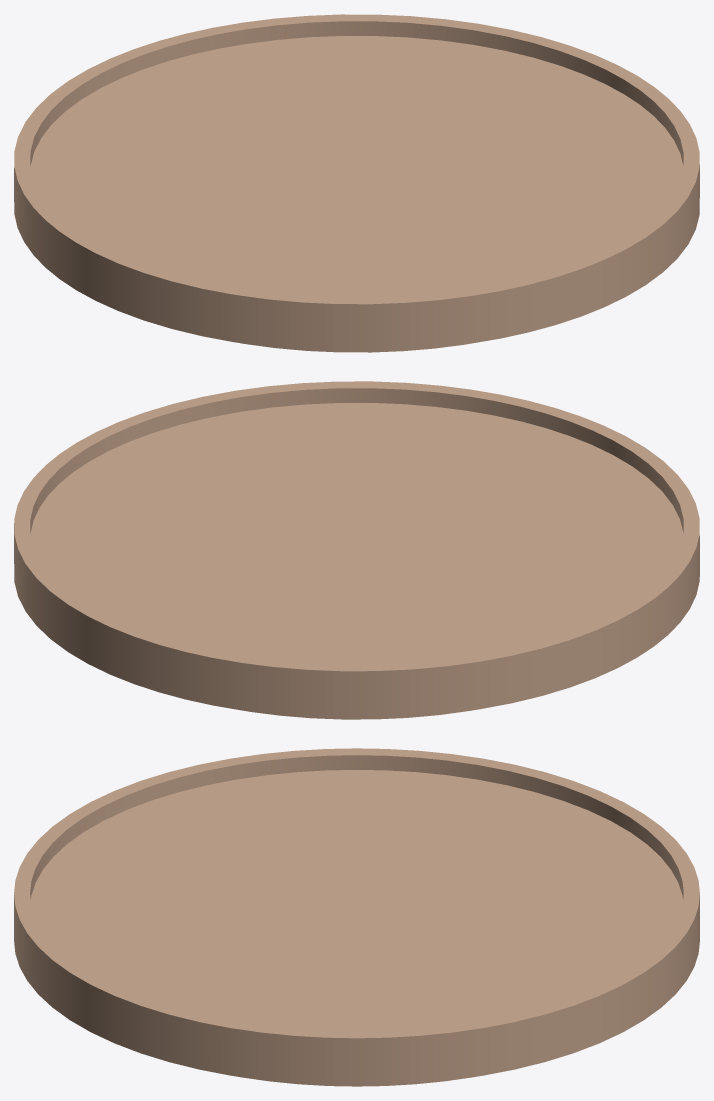
The model's file is コースター.fbx.
3 renders of one model, top to bottom at view 1: azimuth 30°, elevation 25°; view 2: azimuth 150°, elevation 25°; view 3: azimuth 270°, elevation 25°, orthographic.
Parts seen in each view (by area): view 1: Body; view 2: Body; view 3: Body.
Boxes of the visible parts, x1,y1,x2,y2 form: Body: (14,14,699,352); Body: (14,381,699,719); Body: (14,748,699,1086).
Size of the model in its own units: 8.5 by 0.8 by 8.5.
